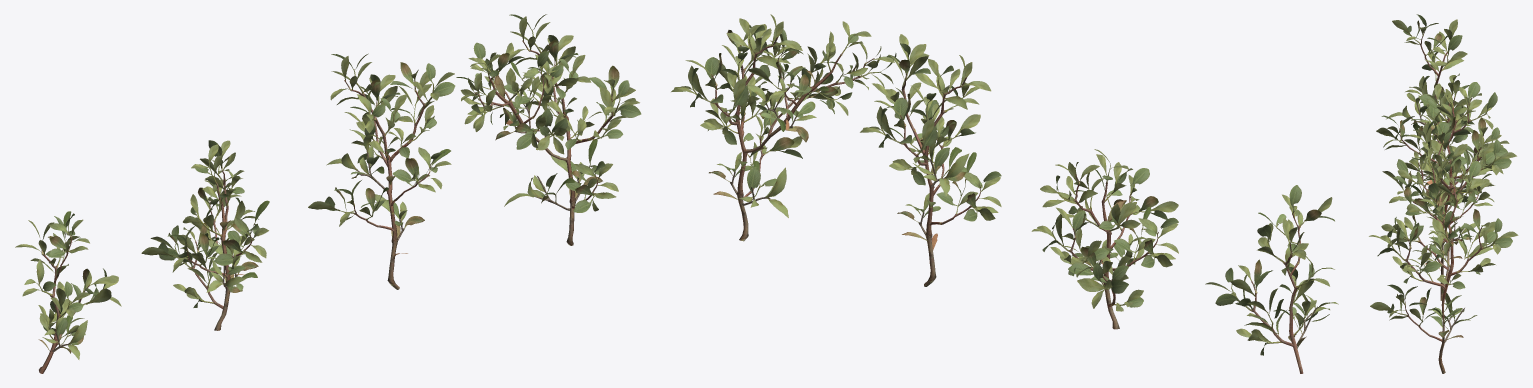
The model's file is shrub_04.glb.
3 renders of one model, left to right at view 1: azimuth 30°, elevation 25°; view 2: azimuth 150°, elevation 25°; view 3: azimuth 270°, elevation 25°, orthographic. The views are drawn at different scales.
Visible parts, largest first — view 1: shrub_04; view 2: shrub_04; view 3: shrub_04.
Boxes of the visible parts, x1,y1,x2,y2 form: shrub_04: (15, 14, 641, 373); shrub_04: (671, 14, 1338, 373); shrub_04: (1369, 14, 1518, 373).
Bounding box in the file's own units: 0.5837 × 0.2192 × 0.1461.
Materials: 1 (1 with a texture image).
